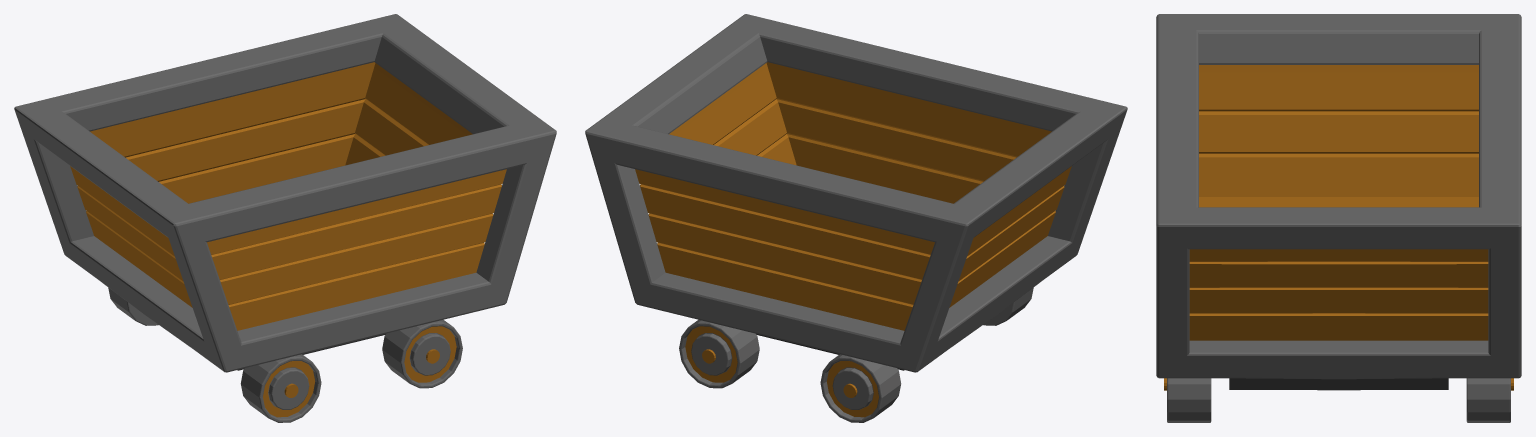
The model's file is Minecart.fbx.
3 views of the same model, side by side, from view 1: azimuth 30°, elevation 25°; view 2: azimuth 150°, elevation 25°; view 3: azimuth 270°, elevation 25° (orthographic). The views are drawn at different scales.
Parts seen in each view (by area): view 1: Mine Cart; view 2: Mine Cart; view 3: Mine Cart.
Part boxes in pixels (left/top/right/bottom): Mine Cart: left=14, top=14, right=556, bottom=422; Mine Cart: left=585, top=14, right=1127, bottom=422; Mine Cart: left=1156, top=14, right=1521, bottom=422.
Bounding box in the file's own units: 130 × 75.03 × 94.97.
